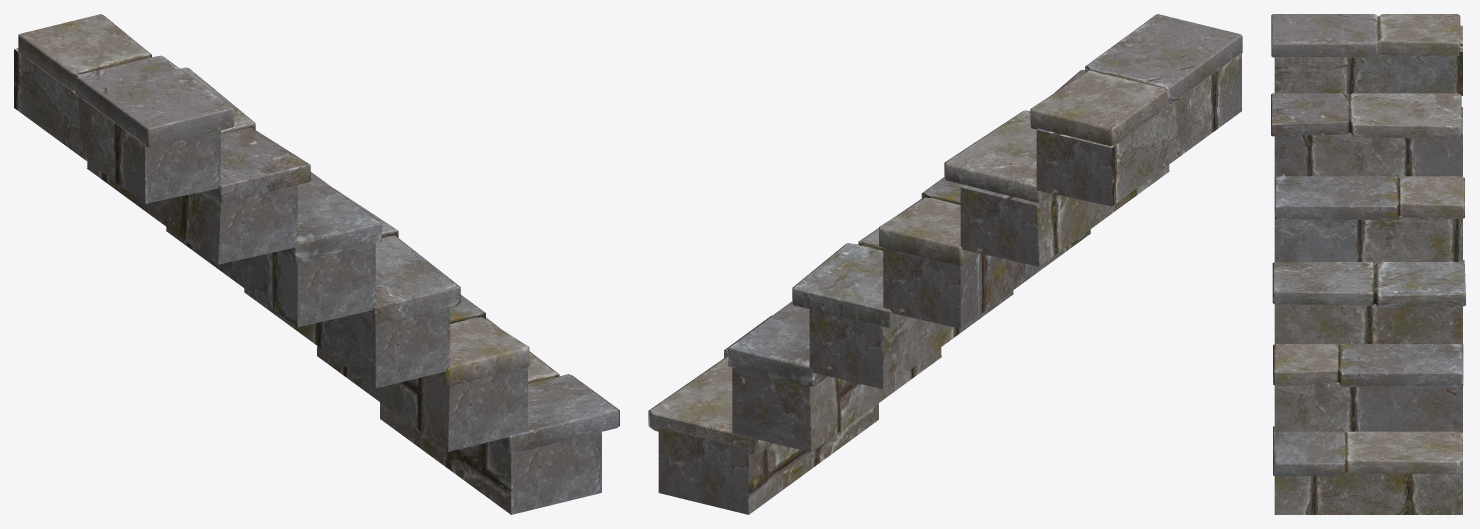
The picture shows the model from 3 angles, left to right: view 1: azimuth 30°, elevation 25°; view 2: azimuth 150°, elevation 25°; view 3: azimuth 270°, elevation 25°; orthographic projection. The views are drawn at different scales.
Parts seen in each view (by area): view 1: SM_BB_T3_Extended_Stairs_Narrow_LOD0; view 2: SM_BB_T3_Extended_Stairs_Narrow_LOD0; view 3: SM_BB_T3_Extended_Stairs_Narrow_LOD0.
Part boxes in pixels (x1,y1,x2,y2): SM_BB_T3_Extended_Stairs_Narrow_LOD0: (14,14,619,514); SM_BB_T3_Extended_Stairs_Narrow_LOD0: (648,14,1242,514); SM_BB_T3_Extended_Stairs_Narrow_LOD0: (1271,14,1465,514).
Bounding box in the file's own units: 1.57 × 1.5 × 0.7755.
Materials: 1 (1 with a texture image).
